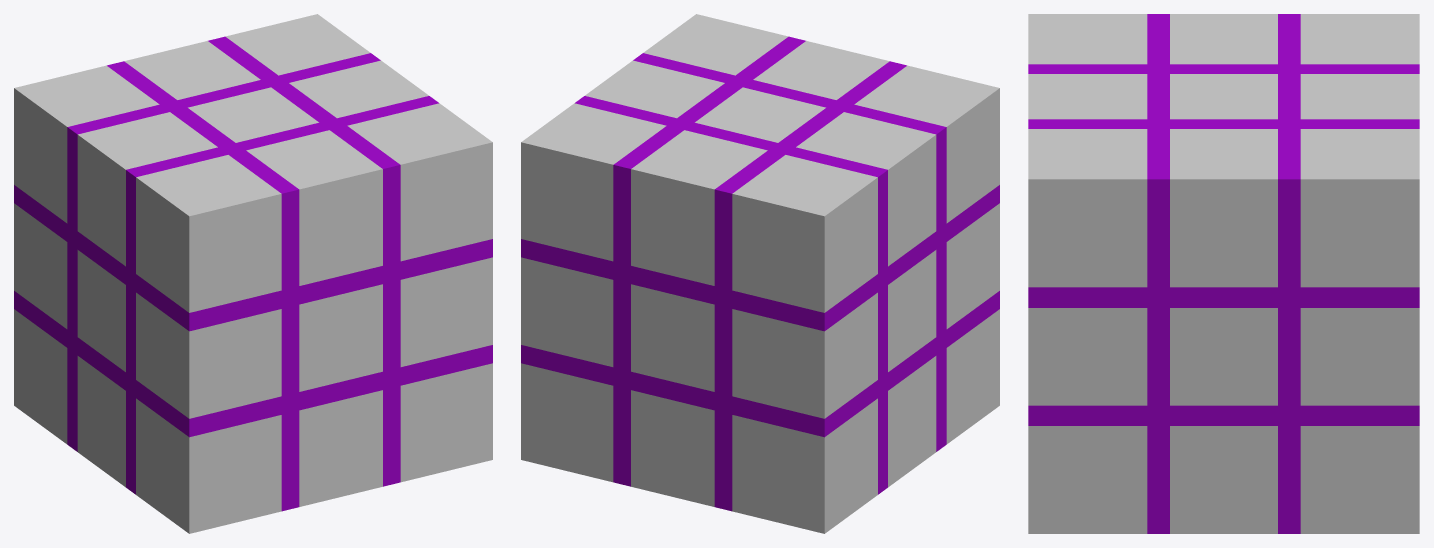
File: Player00.fbx
3 renders of one model, left to right at view 1: azimuth 30°, elevation 25°; view 2: azimuth 150°, elevation 25°; view 3: azimuth 270°, elevation 25°, orthographic. The views are drawn at different scales.
Parts seen in each view (by area): view 1: Cube; view 2: Cube; view 3: Cube.
Boxes of the visible parts, left/top/right/bottom form: Cube: left=14, top=14, right=492, bottom=533; Cube: left=521, top=14, right=999, bottom=533; Cube: left=1028, top=14, right=1419, bottom=533.
Bounding box in the file's own units: 100 × 100 × 100.
